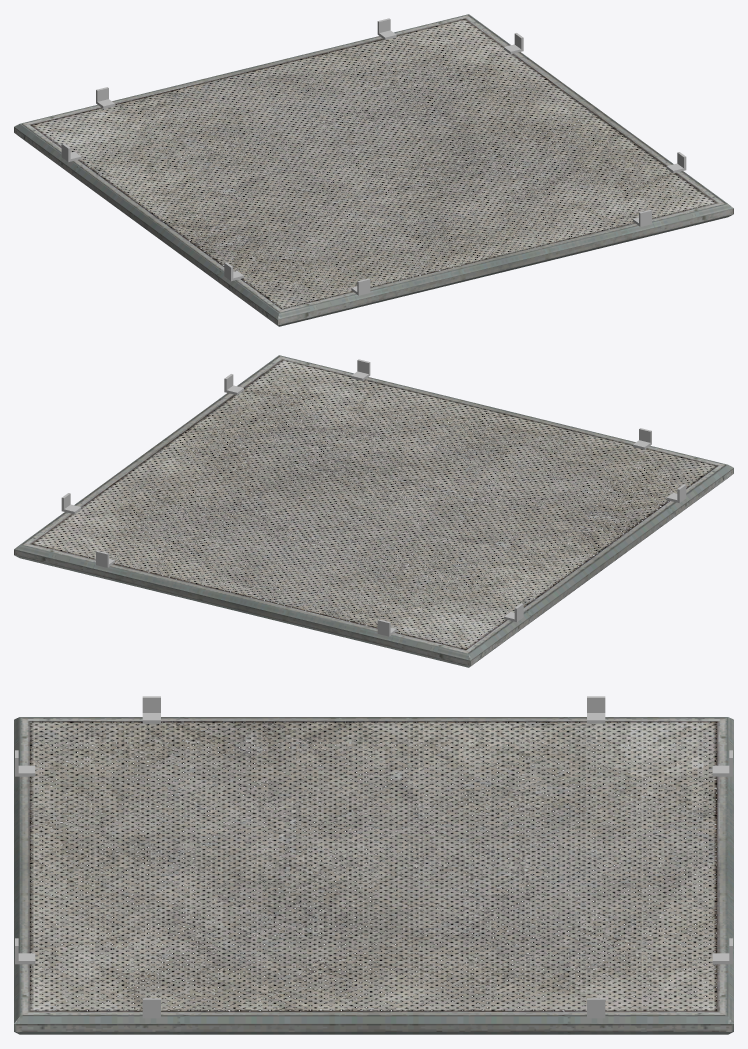
The model's file is waitingroom_board_square.dae.
3 renders of one model, top to bottom at view 1: azimuth 30°, elevation 25°; view 2: azimuth 150°, elevation 25°; view 3: azimuth 270°, elevation 25°, orthographic. The views are drawn at different scales.
Visible parts, largest first — view 1: waitingroom_boards_square2, waitingroom_boards_square1, polySurface10; view 2: waitingroom_boards_square2, waitingroom_boards_square1, polySurface10; view 3: waitingroom_boards_square2, waitingroom_boards_square1, polySurface10.
Part boxes in pixels (<box>): waitingroom_boards_square2: <box>31,19,716,308</box>; waitingroom_boards_square1: <box>14,14,733,326</box>; polySurface10: <box>61,18,686,295</box>; waitingroom_boards_square2: <box>32,359,716,649</box>; waitingroom_boards_square1: <box>14,355,733,667</box>; polySurface10: <box>61,359,686,636</box>; waitingroom_boards_square2: <box>29,721,717,1011</box>; waitingroom_boards_square1: <box>14,717,733,1034</box>; polySurface10: <box>15,696,732,1018</box>.
Size of the model in its own units: 1 by 0.0562 by 1.
